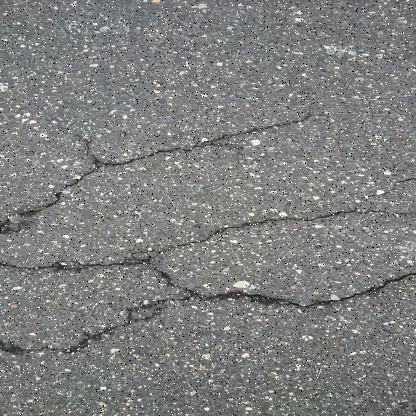Cracks: (0, 110, 416, 362)
